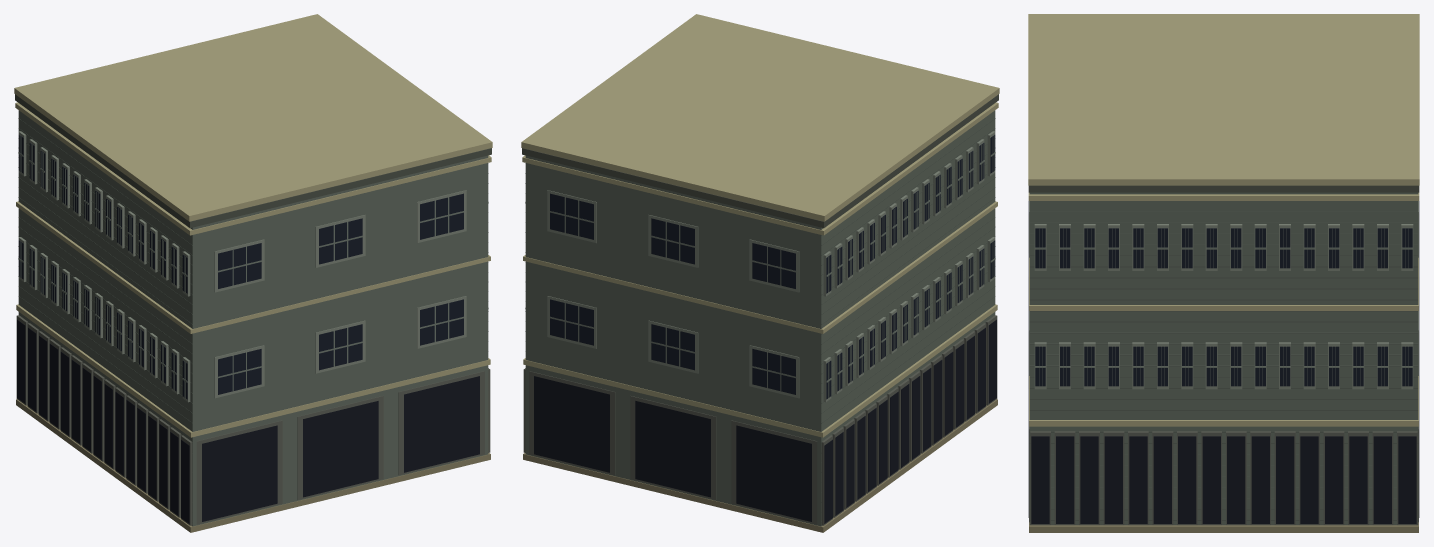
Rendered from ArrivalWestFacade.obj.
The picture shows the model from 3 angles, left to right: view 1: azimuth 30°, elevation 25°; view 2: azimuth 150°, elevation 25°; view 3: azimuth 270°, elevation 25°; orthographic projection. The views are drawn at different scales.
Parts seen in each view (by area): view 1: ArrivalWestFacade; view 2: ArrivalWestFacade; view 3: ArrivalWestFacade.
Boxes of the visible parts, bbox=[...] form: ArrivalWestFacade: bbox=[14, 14, 492, 532]; ArrivalWestFacade: bbox=[521, 14, 999, 532]; ArrivalWestFacade: bbox=[1028, 14, 1419, 532].
Bounding box in the file's own units: 2 × 2 × 2.
